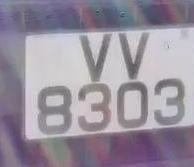0: (108, 77, 154, 137)
3: (147, 71, 191, 139), (73, 81, 115, 138)
8: (29, 77, 78, 148)
V: (111, 26, 155, 82), (74, 27, 116, 84)
